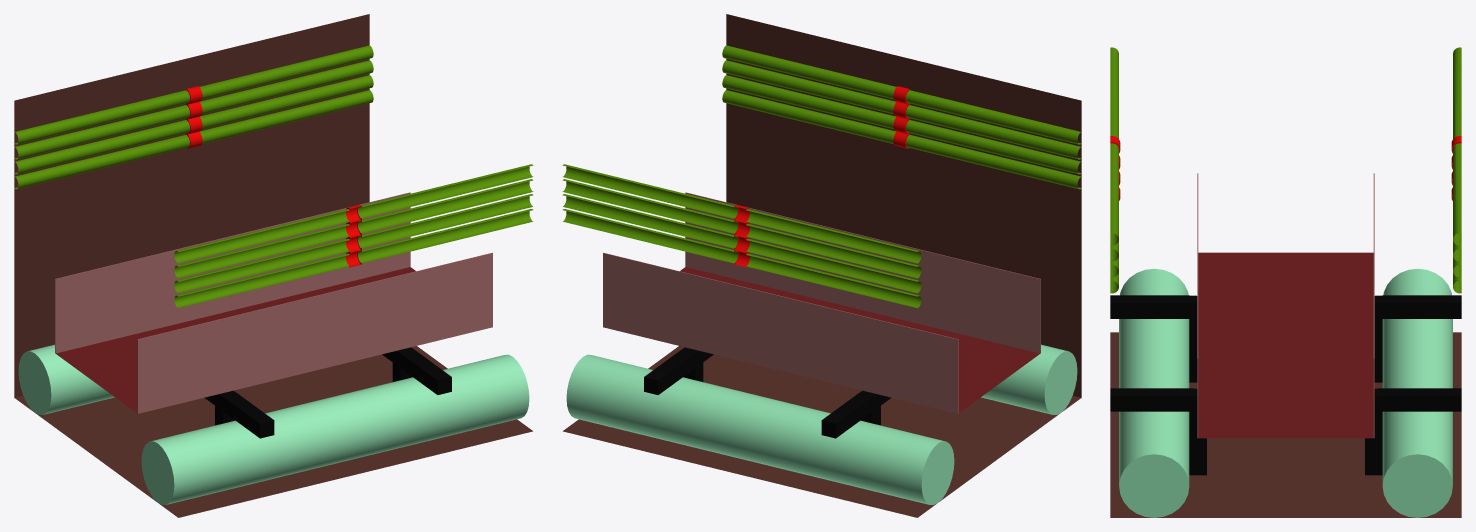
The model's file is StraightPiece.fbx.
3 views of the same model, side by side, from view 1: azimuth 30°, elevation 25°; view 2: azimuth 150°, elevation 25°; view 3: azimuth 270°, elevation 25° (orthographic). The views are drawn at different scales.
Parts seen in each view (by area): view 1: StraightPiece; view 2: StraightPiece; view 3: StraightPiece.
Part boxes in pixels (bbox=[...]): StraightPiece: bbox=[14, 14, 533, 517]; StraightPiece: bbox=[562, 14, 1081, 517]; StraightPiece: bbox=[1110, 47, 1461, 517].
Bounding box in the file's own units: 5 × 4 × 4.
